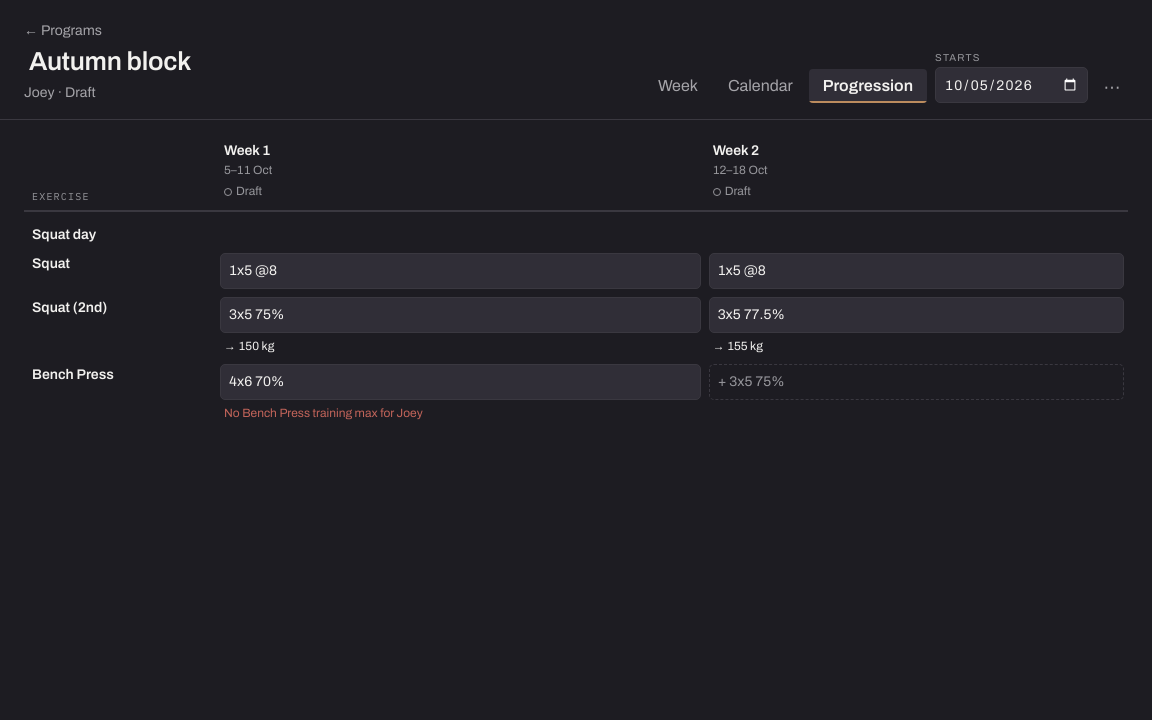
Test: the progression view › opens a week in the week view from its column heading
What coordinates should you click on to do the following:
click the button with aria-label "Open Week 2 in the week view"
I would click on:
 (736, 151)
Its box is x1=709 y1=140 x2=1124 y2=202.
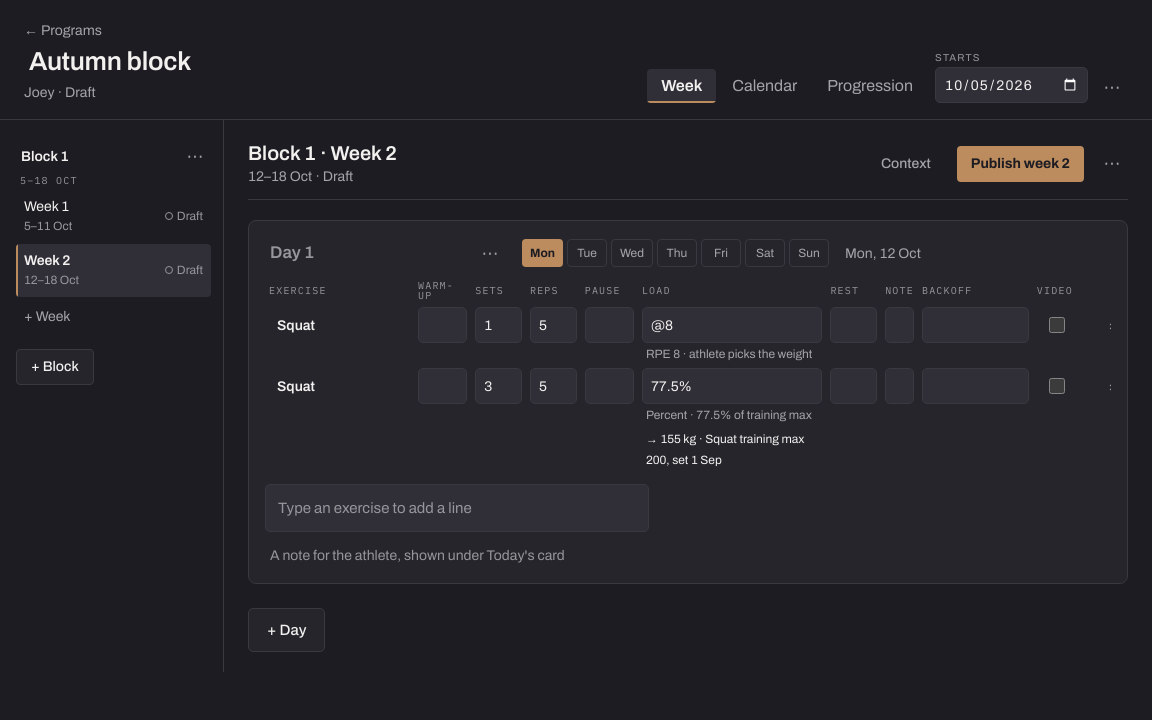
Expected: the heading "Block 1 · Week 2" is shown, x1=248 y1=140 x2=397 y2=166
